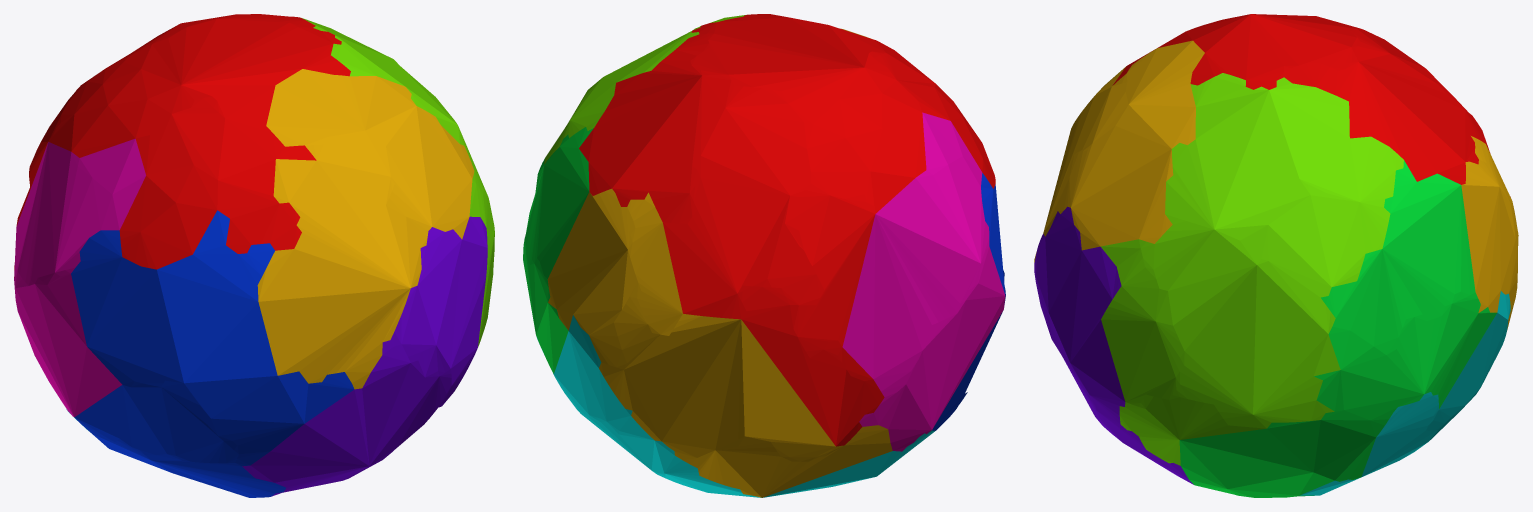
The model's file is SphereH_L4.fbx.
3 renders of one model, left to right at view 1: azimuth 30°, elevation 25°; view 2: azimuth 150°, elevation 25°; view 3: azimuth 270°, elevation 25°, orthographic.
Size of the model in its own units: 1.98 by 1.96 by 2.
